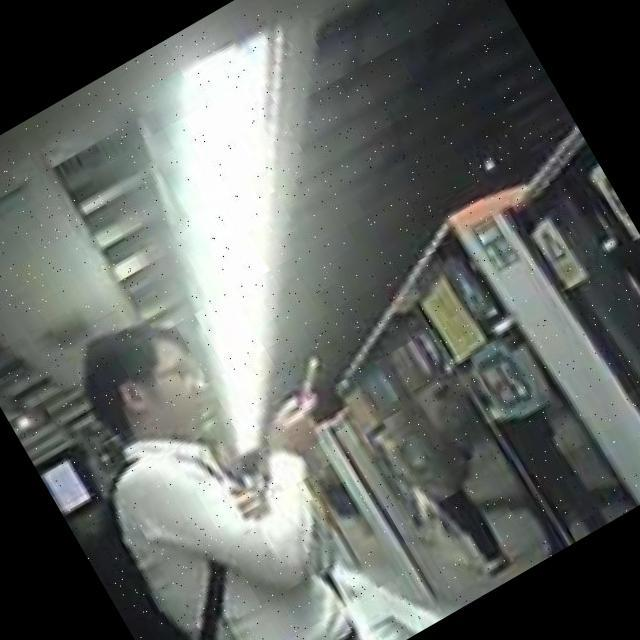person: (17, 247, 450, 640), (367, 390, 523, 594)
